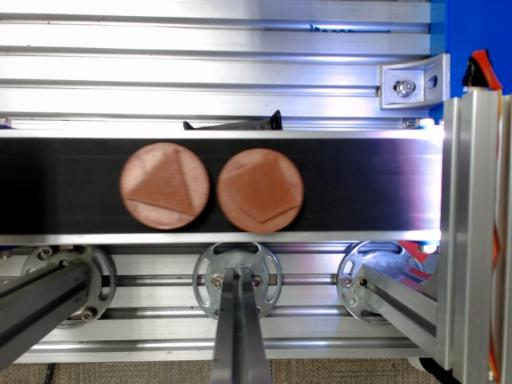Brown_Waper: (120, 143, 209, 229), (217, 148, 303, 233)
